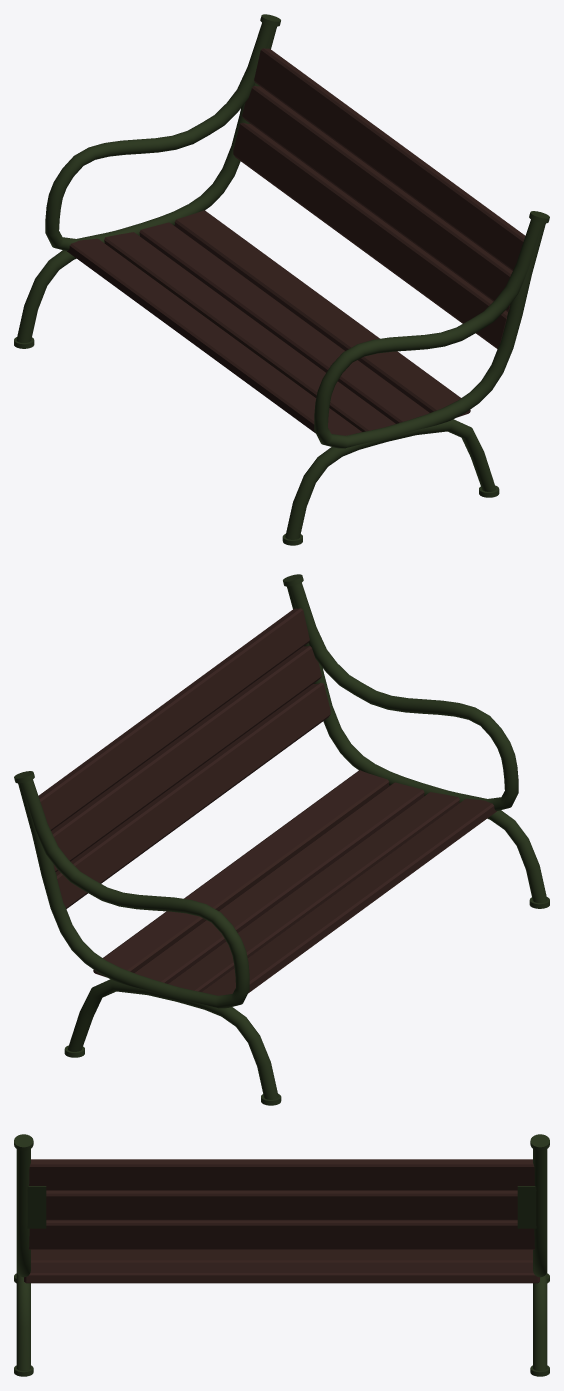
File: Bench.fbx
3 views of the same model, one above another, from view 1: azimuth 30°, elevation 25°; view 2: azimuth 150°, elevation 25°; view 3: azimuth 270°, elevation 25° (orthographic). The views are drawn at different scales.
Parts seen in each view (by area): view 1: Bench; view 2: Bench; view 3: Bench.
Part boxes in pixels (left/top/right/bottom): Bench: left=14, top=14, right=549, bottom=545; Bench: left=14, top=574, right=549, bottom=1105; Bench: left=14, top=1134, right=549, bottom=1376.
Size of the model in its own units: 33.65 by 32.69 by 61.48.
